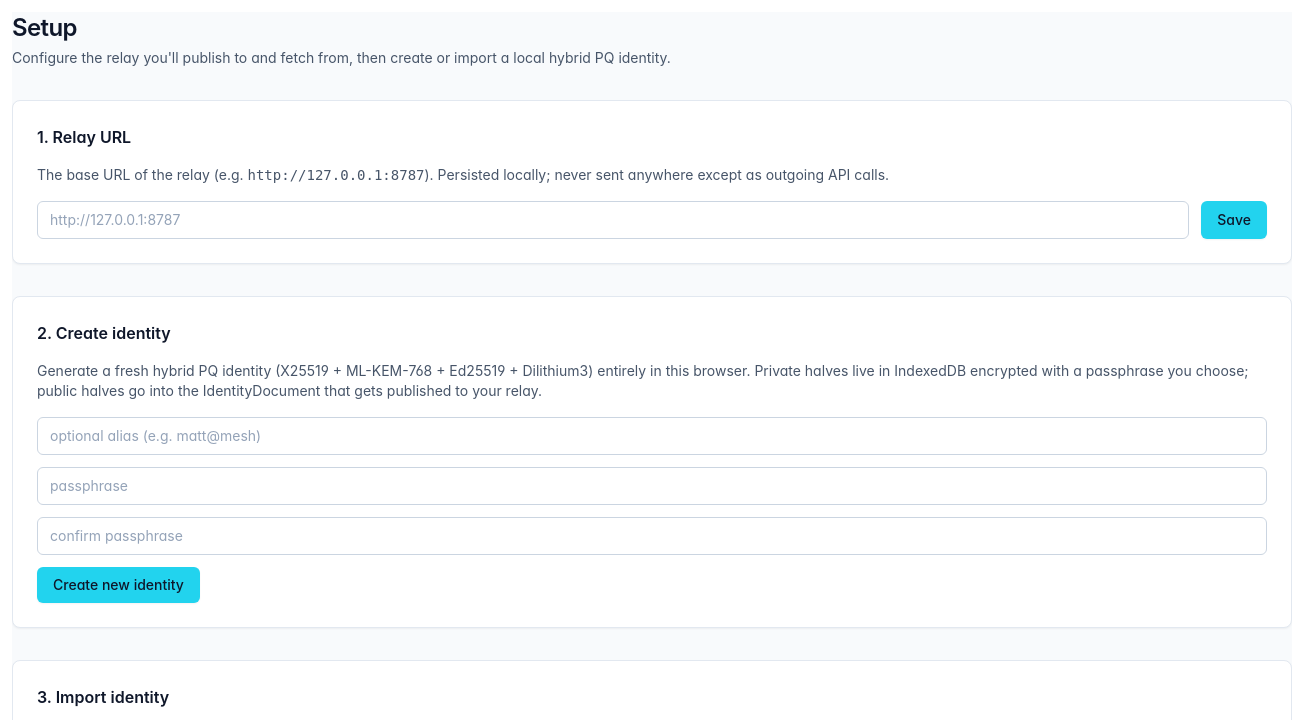
Test: Setup page › rejects a non-http relay URL
This screenshot has width=1292, height=720.
In the field with placeholder "http://127.0.0.1:8787": (613, 220) [37,201,1189,239], type "ftp://bad.host"
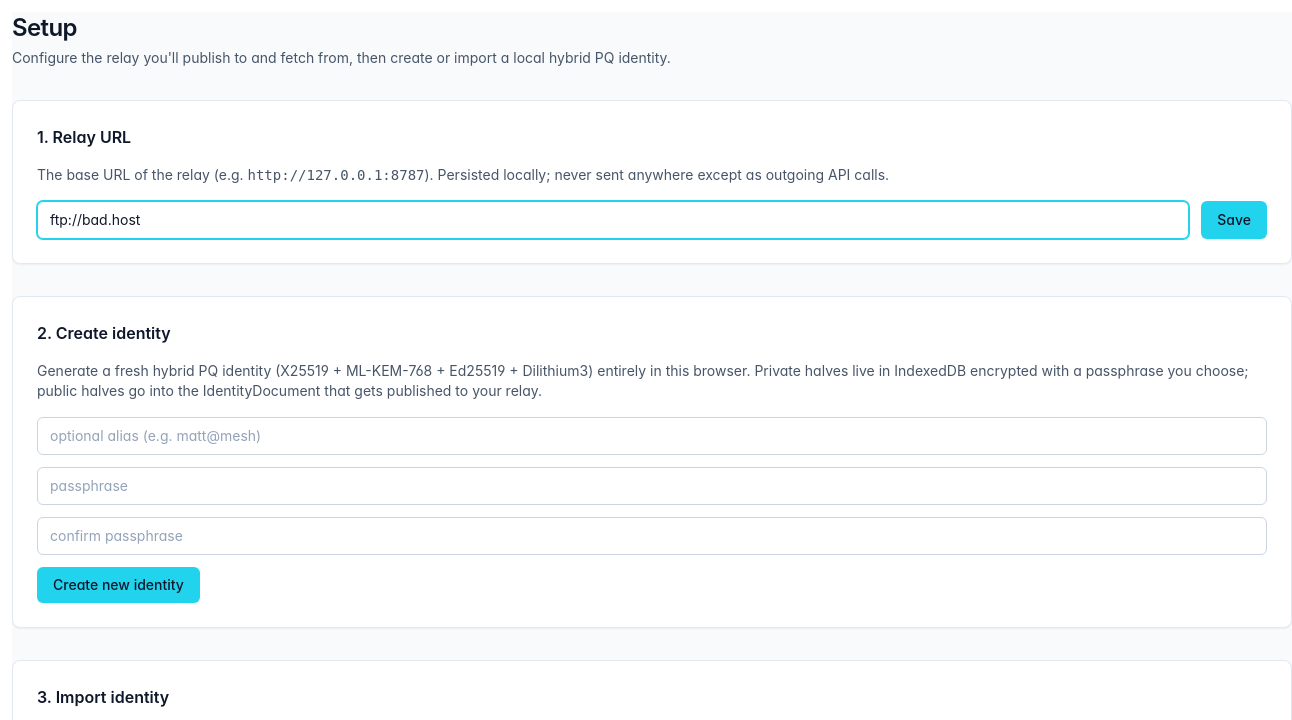
Click the button "Save": (1234, 220) [1201,201,1267,239]
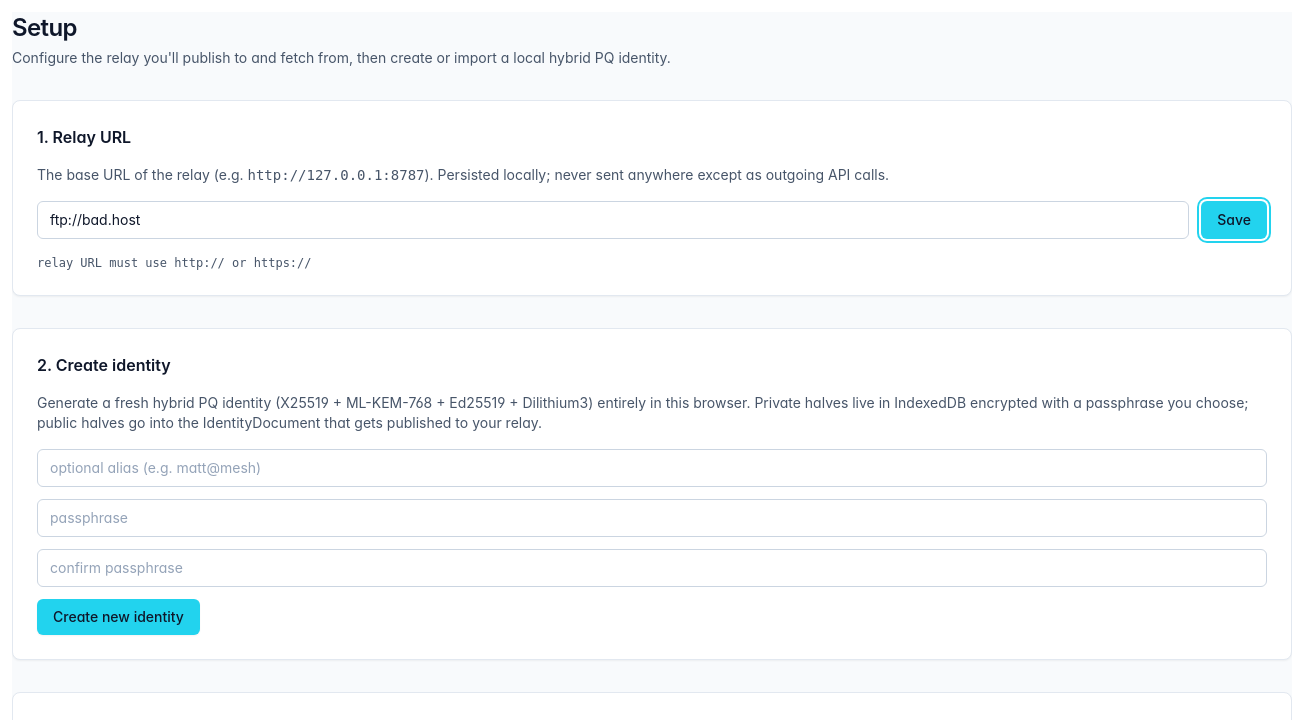
Expected: the text "relay URL must use http:// or https://" is shown, [37,256,312,270]
